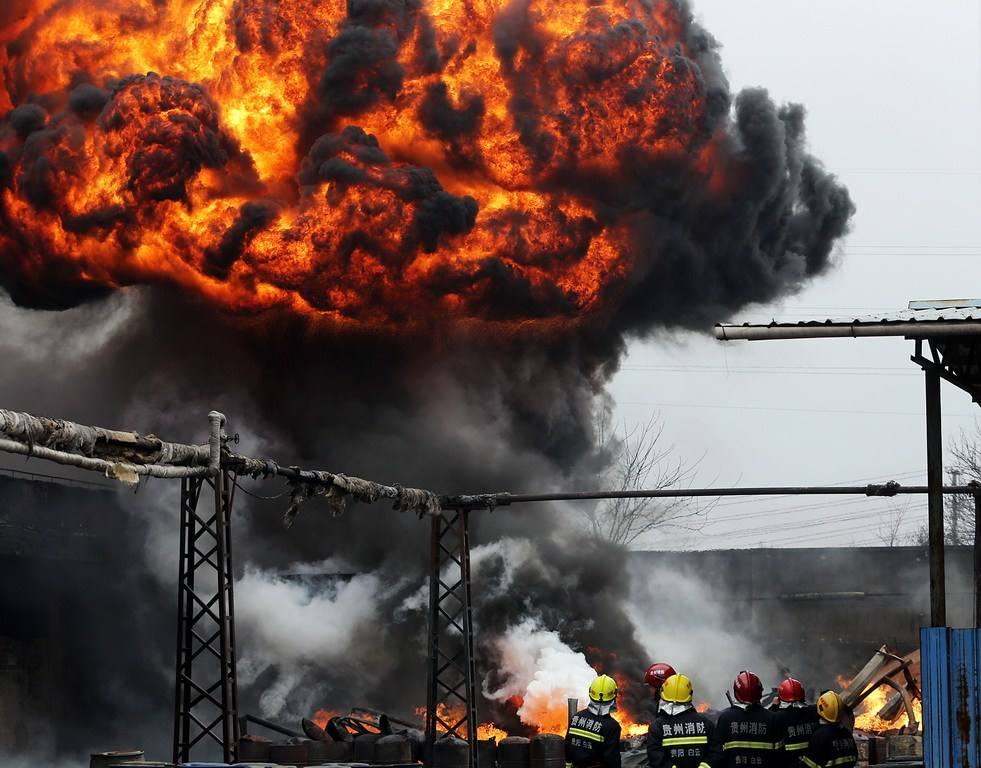fire: (6, 1, 840, 321), (519, 635, 657, 740), (426, 700, 517, 741)
